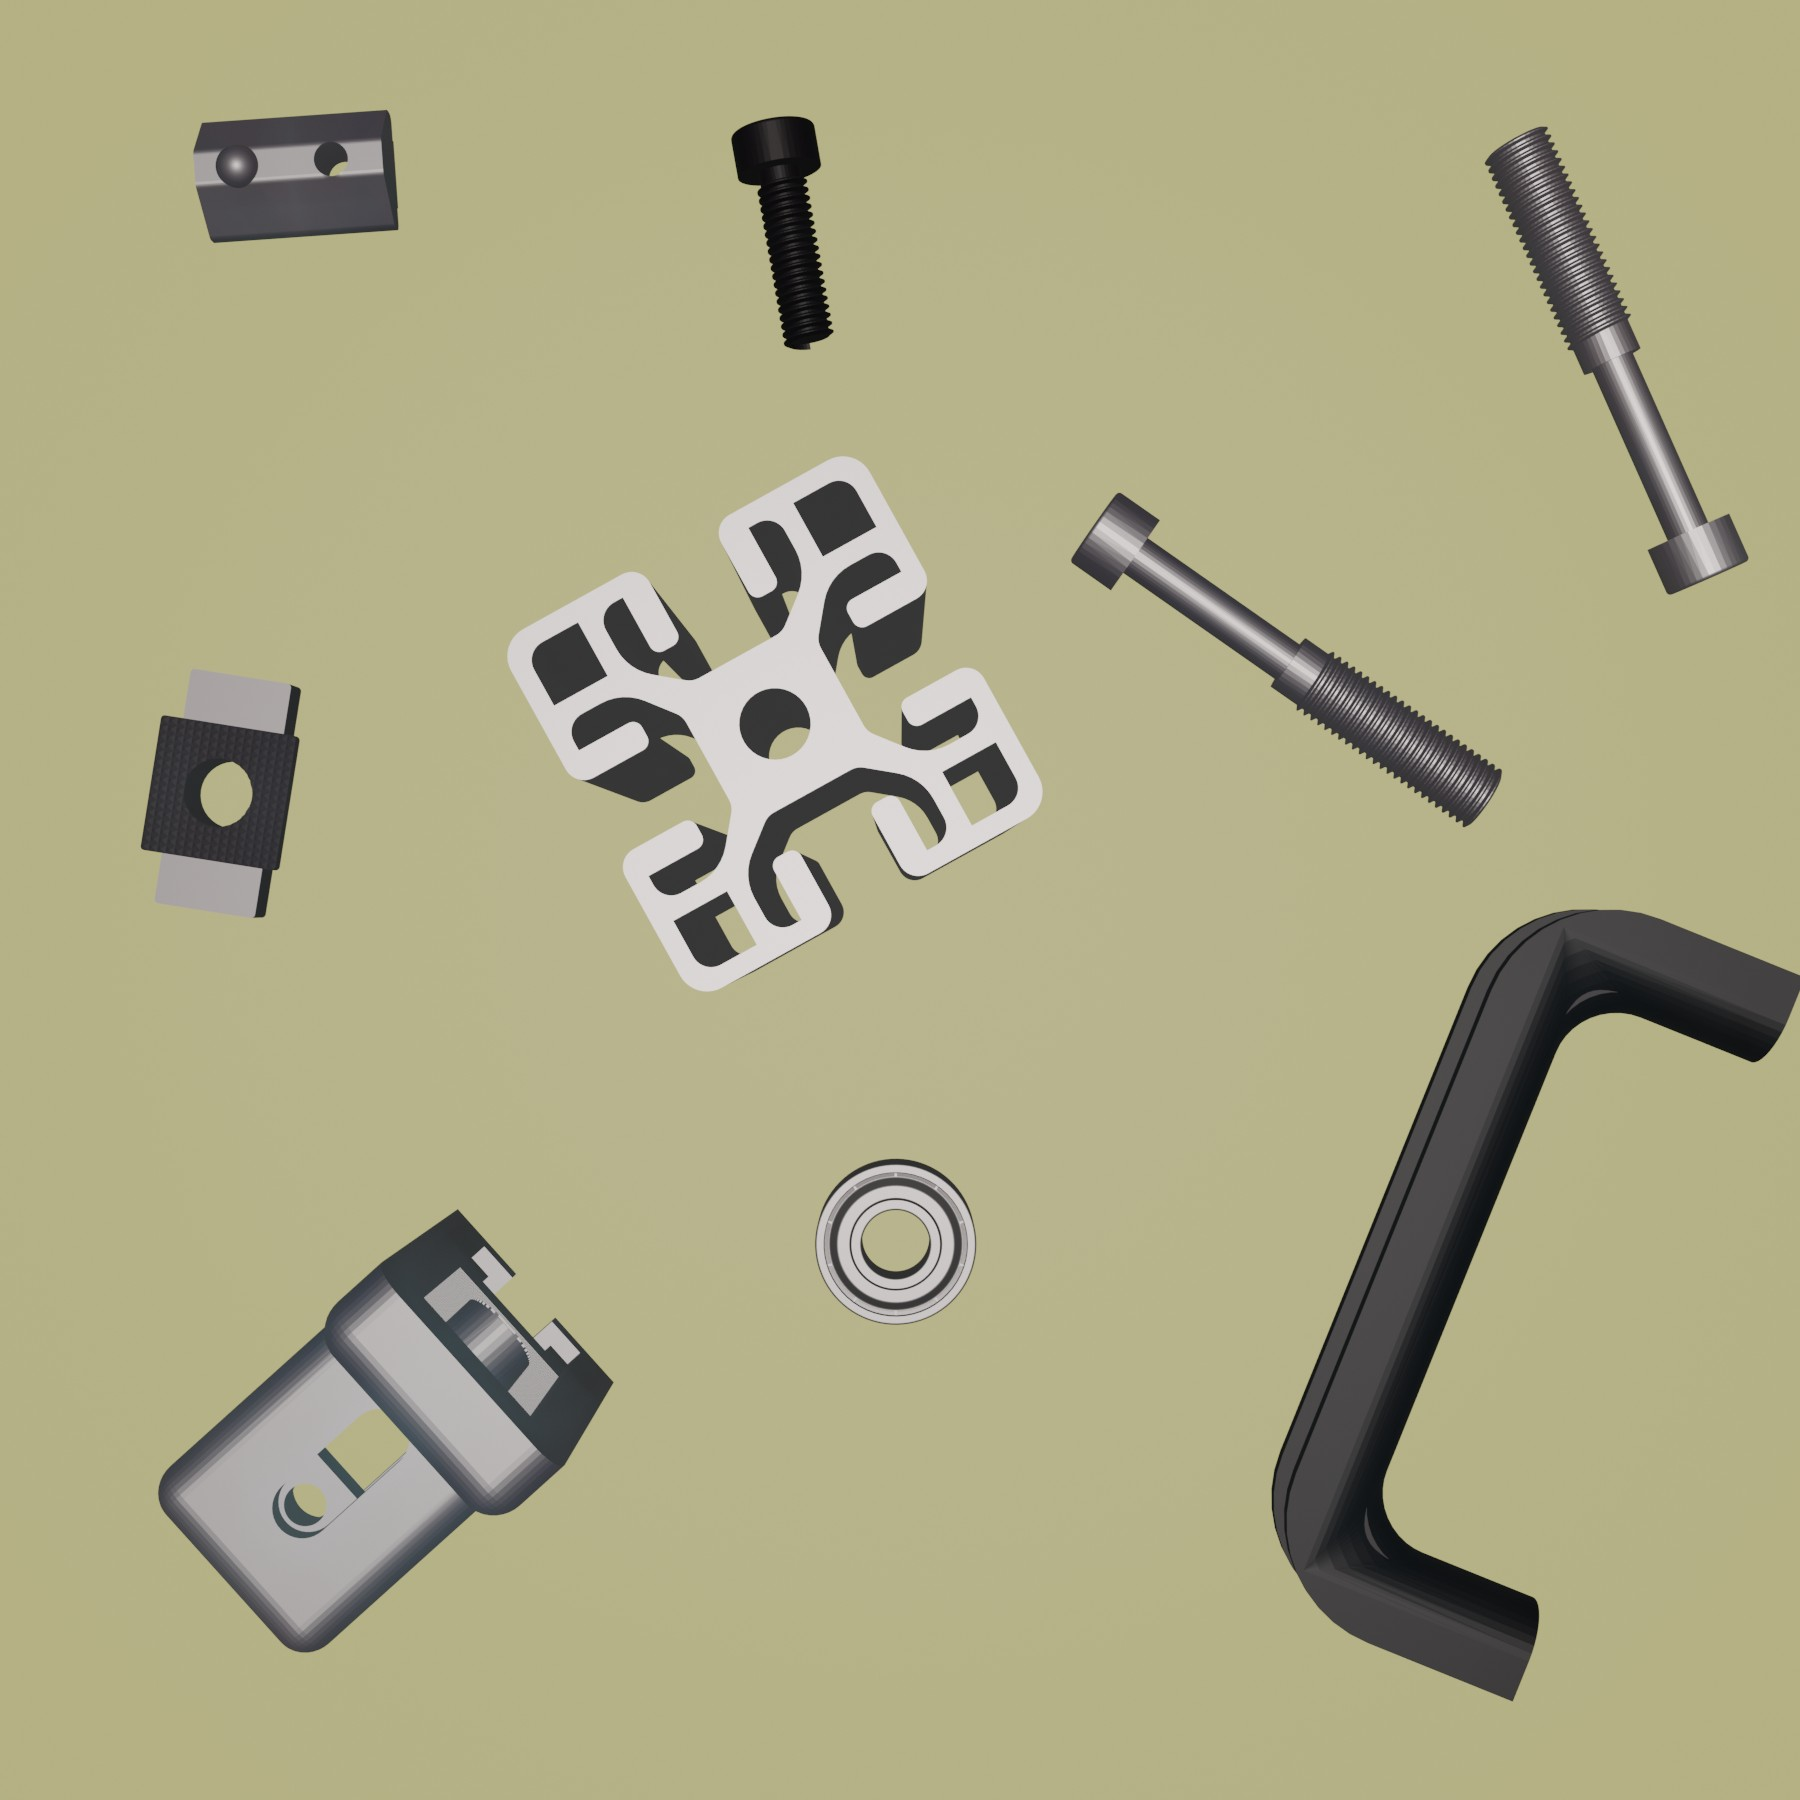Aluminium Extension: (504, 457, 1043, 996)
Ball Bearing: (813, 1157, 977, 1327)
Multiwinkel: (155, 1205, 616, 1655)
Pull Handle: (1269, 908, 1800, 1704)
Shoulder Socket Head Cap Screw: (1066, 491, 1505, 831), (1484, 124, 1751, 598)
Socket Head Cap Screw: (730, 114, 836, 354)
T Nut Square: (140, 664, 303, 923)
T Spring Nut: (191, 107, 401, 247)
